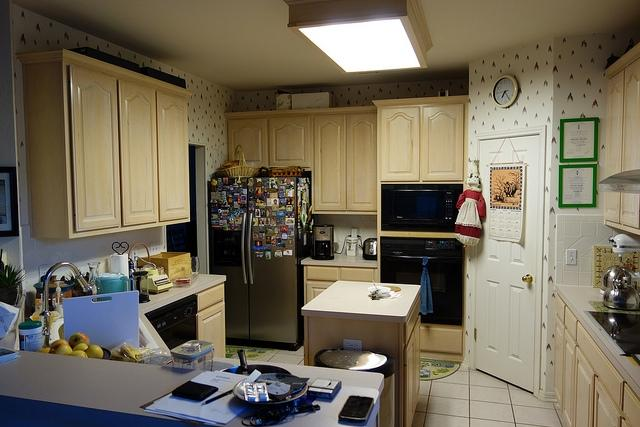apple: (69, 332, 89, 349), (49, 342, 73, 356), (84, 344, 104, 359), (49, 339, 72, 348), (38, 348, 51, 354)
